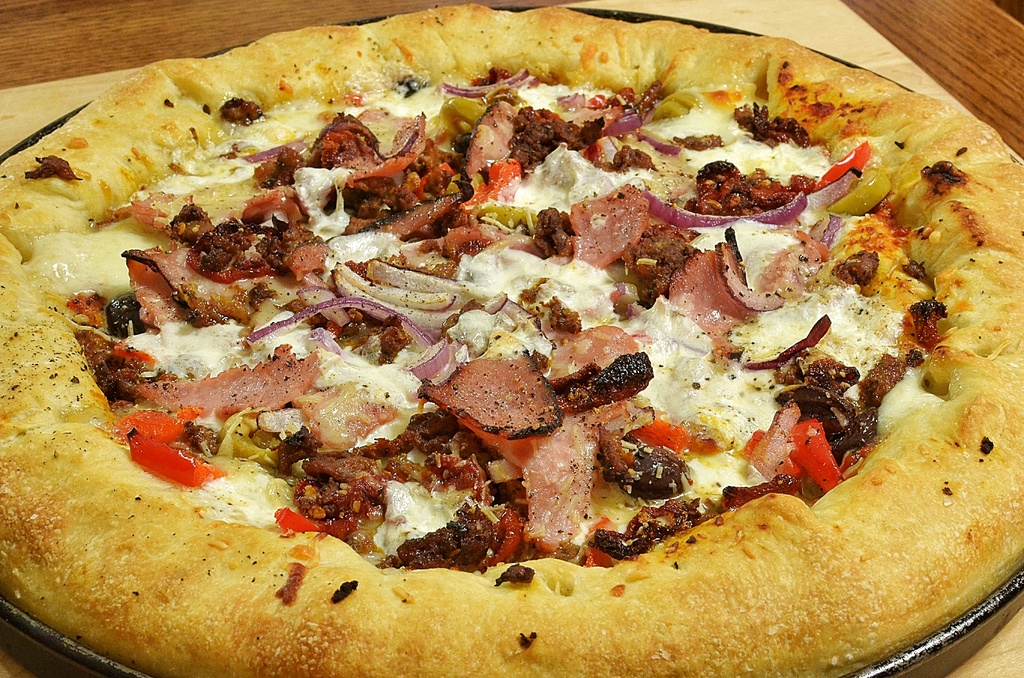Pizza: (0, 20, 1020, 663)
